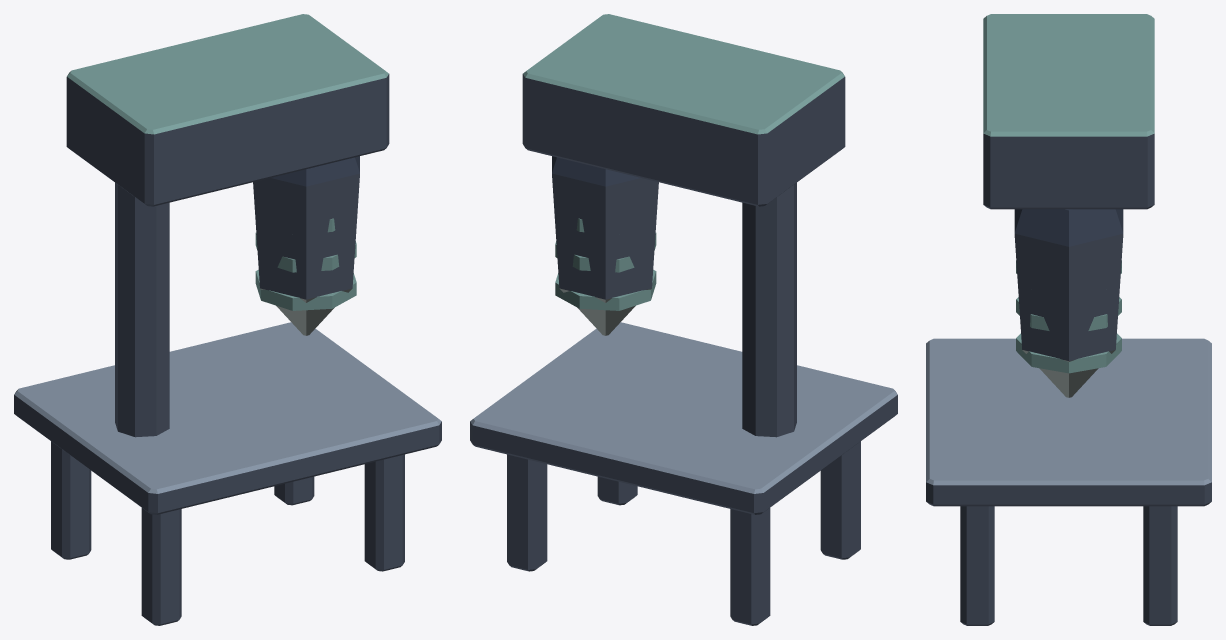
File: drill-rig.glb
3 views of the same model, side by side, from view 1: azimuth 30°, elevation 25°; view 2: azimuth 150°, elevation 25°; view 3: azimuth 270°, elevation 25° (orthographic).
Parts seen in each view (by area): view 1: drill-rig__body; view 2: drill-rig__body; view 3: drill-rig__body.
Boxes of the visible parts, <box> form: drill-rig__body: <box>14,14,441,625</box>; drill-rig__body: <box>470,14,897,625</box>; drill-rig__body: <box>926,14,1211,625</box>.
Size of the model in its own units: 1.2 by 1.9 by 1.
